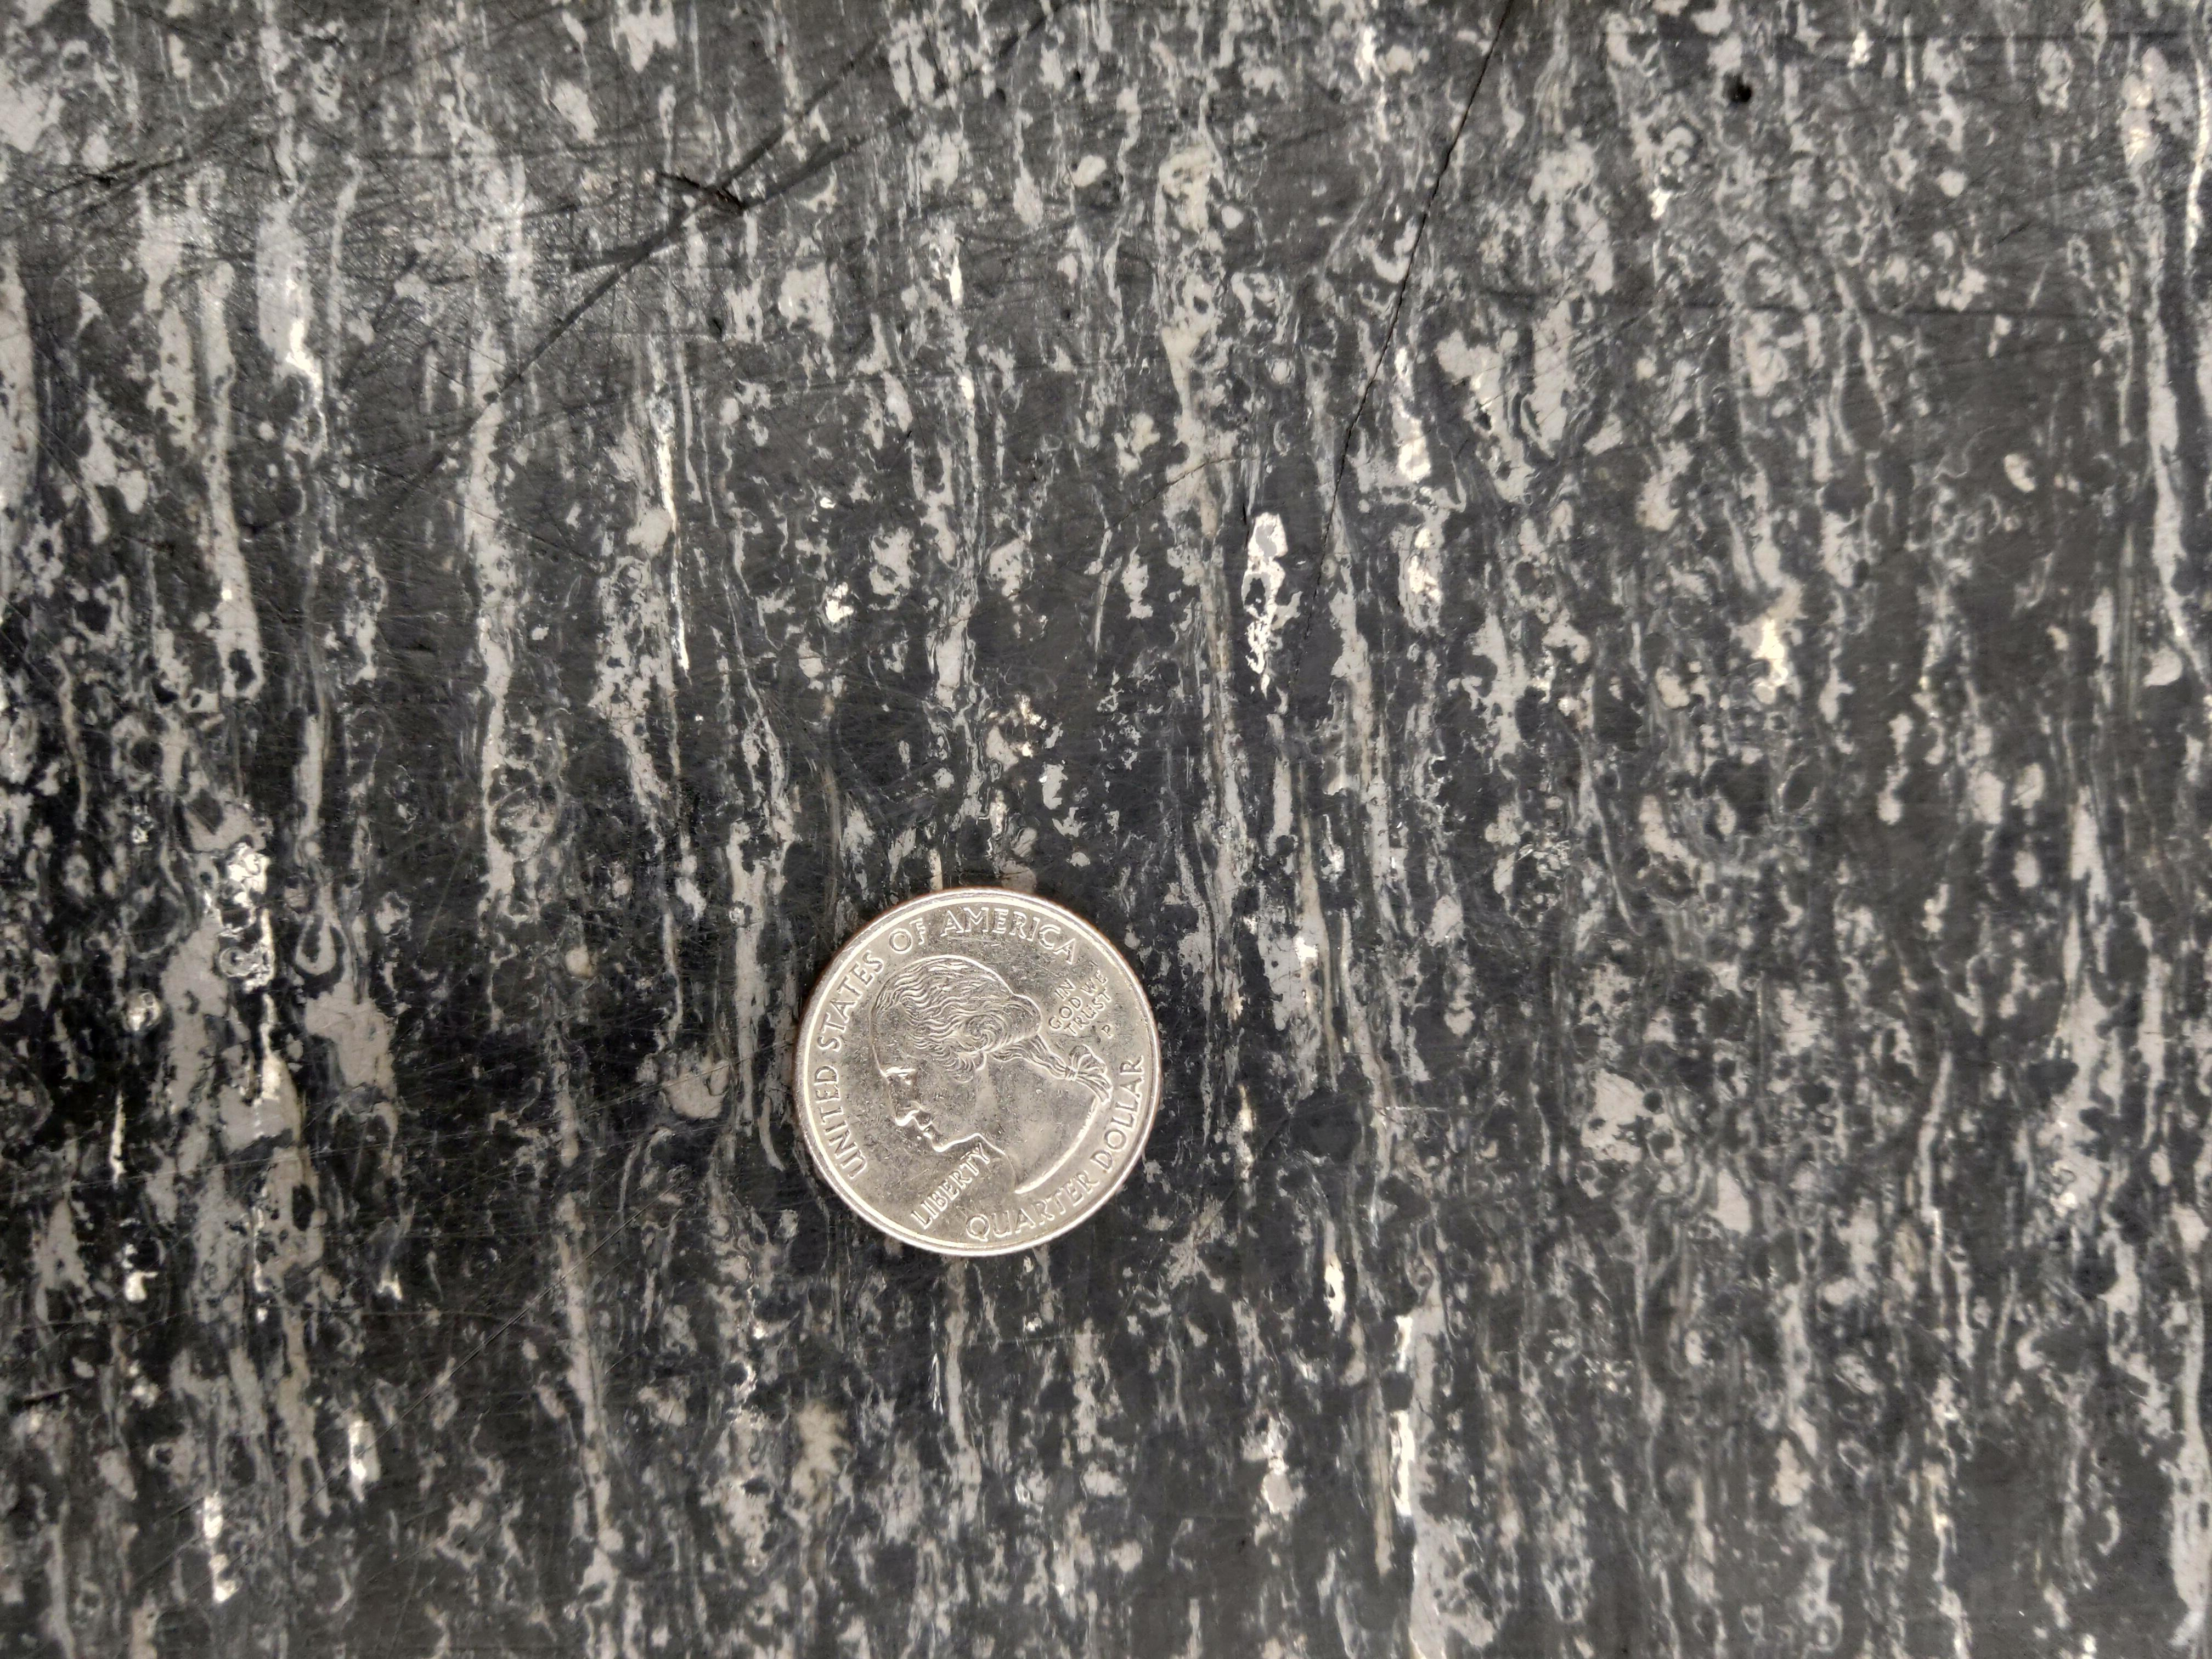Quarter: (787, 887, 1163, 1260)
